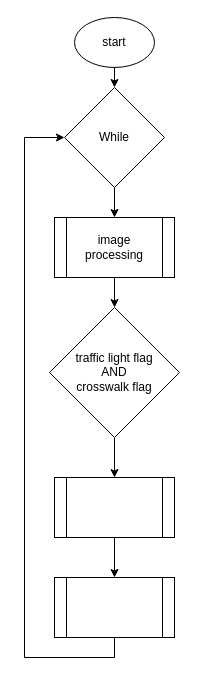
Image size: 197x683. Some labels were removed from this diagram. Here are the shapes that lost their labels. From the top down, the centre of each, then its label:
the point at 114,507: line detection algorithm
the point at 114,607: Proportional controller
